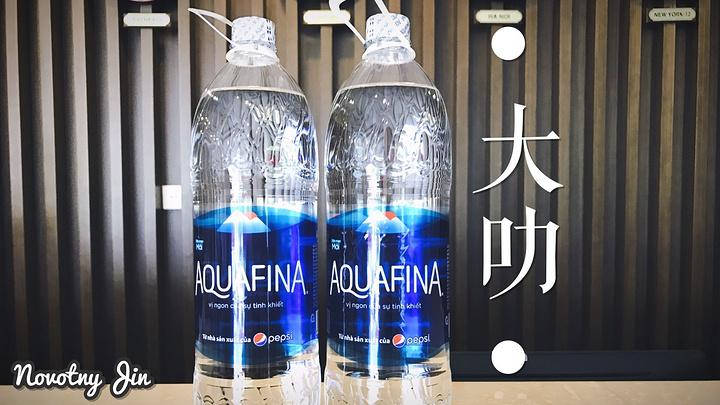plastic: (321, 2, 451, 404), (191, 10, 320, 404)
